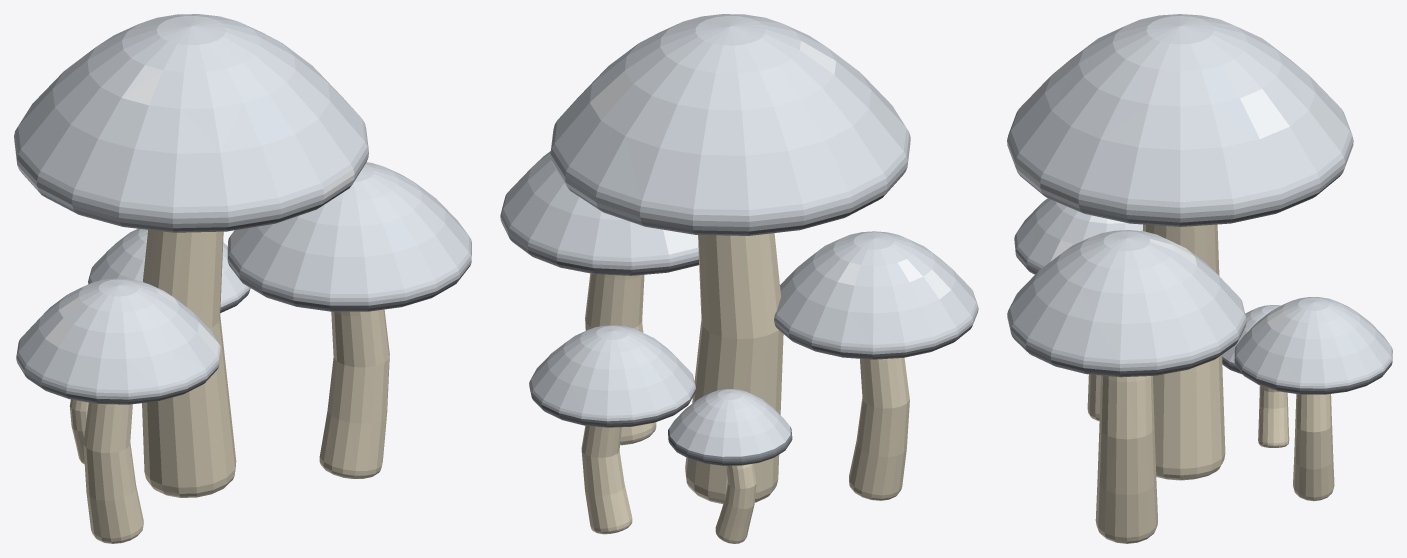
File: Glowshroom.obj
3 renders of one model, left to right at view 1: azimuth 30°, elevation 25°; view 2: azimuth 150°, elevation 25°; view 3: azimuth 270°, elevation 25°, orthographic. The views are drawn at different scales.
Bounding box in the file's own units: 3.64 × 3.69 × 2.89.
